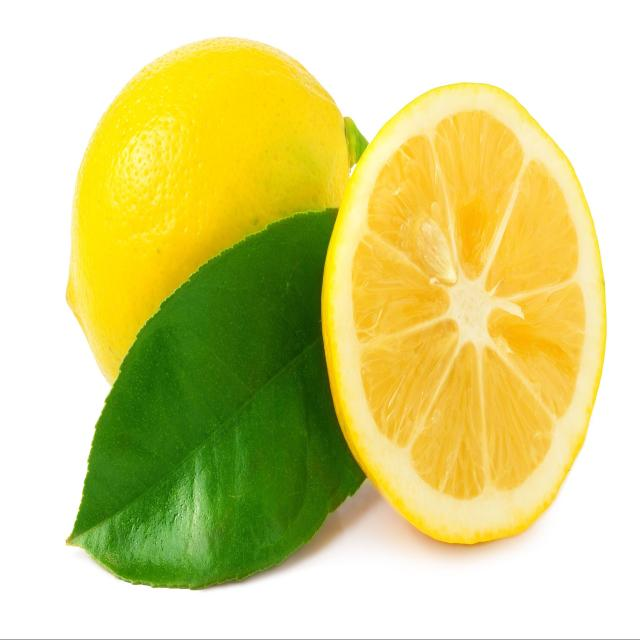lemon: (316, 79, 610, 550)
